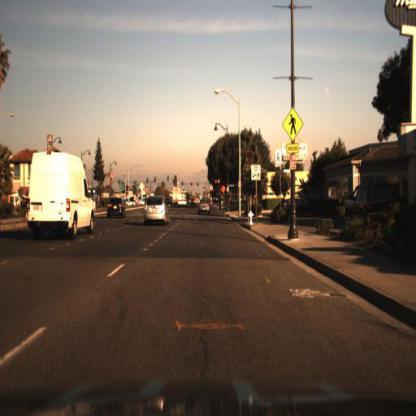car: (26, 148, 97, 247), (343, 182, 397, 221), (143, 194, 171, 226), (107, 196, 128, 220), (197, 193, 215, 216), (178, 193, 192, 215), (187, 193, 198, 213)
truck: (28, 152, 97, 240), (177, 187, 187, 212)
